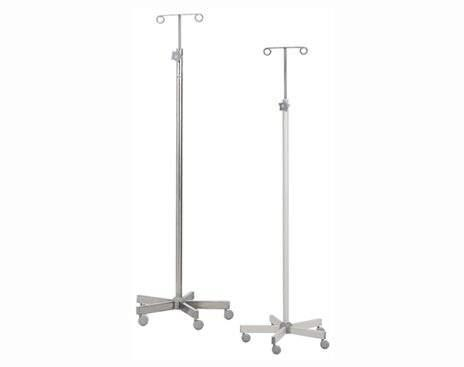Saline Stand: (134, 11, 233, 330), (238, 44, 329, 354)
